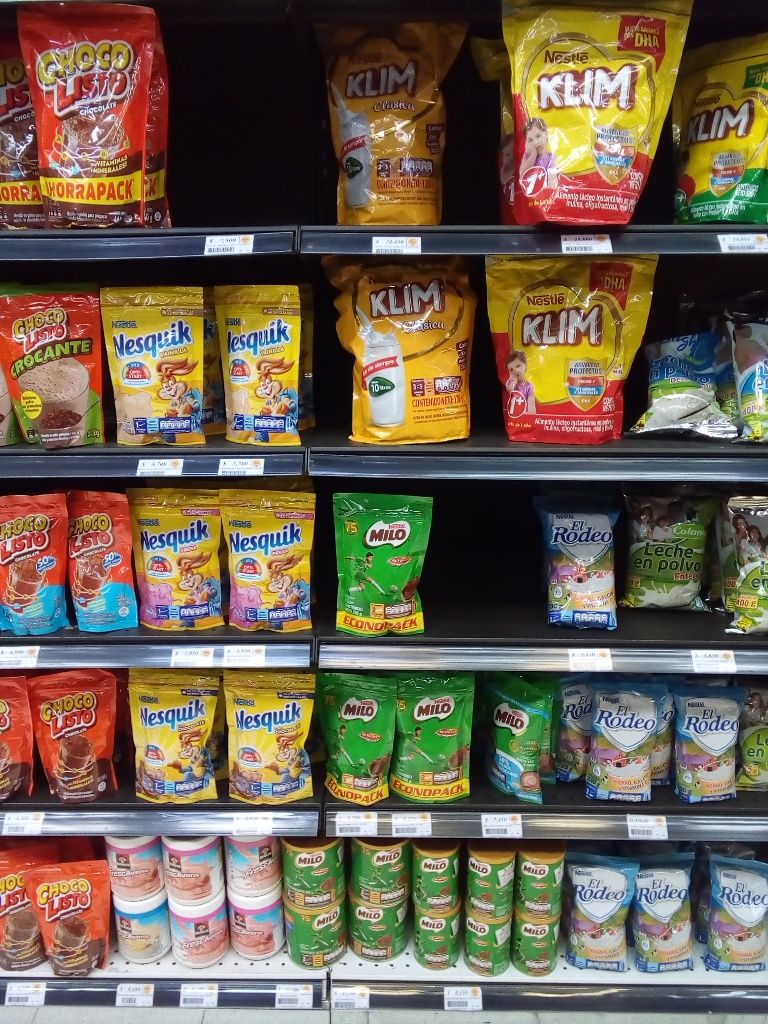COL0170102DYP25000: (2, 291, 107, 451)
COL0170103DYP20000: (30, 672, 121, 805)
COL0170103DYP44000: (27, 2, 164, 232)
COL0170104DYP20000: (1, 495, 73, 637)
COL0170203DYP25000: (399, 673, 475, 803)
COL0170203LAT20000: (414, 845, 464, 911)
COL0170203LAT40000: (351, 898, 415, 967)
COL0170205DYP20000: (491, 676, 550, 805)
COL0170303DYP20000: (127, 667, 220, 803)
COL0170305DYP20000: (129, 486, 227, 632)
COL0170306DYP20000: (108, 289, 205, 451)
